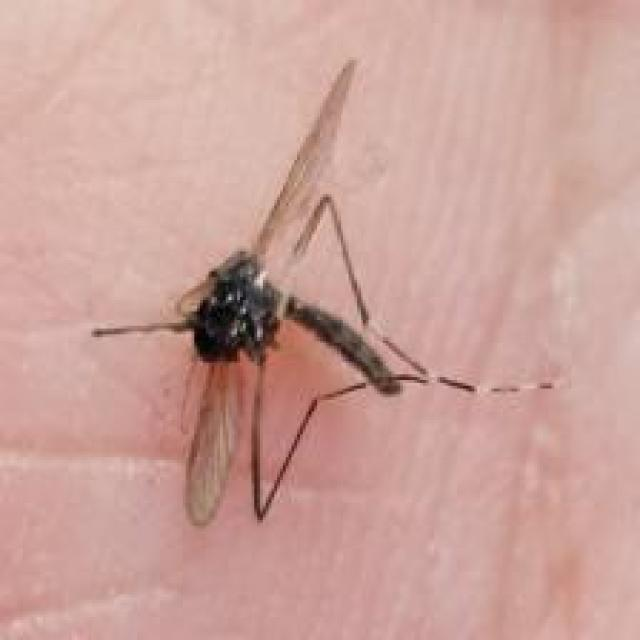Aedes albopictus: (88, 56, 563, 527)
